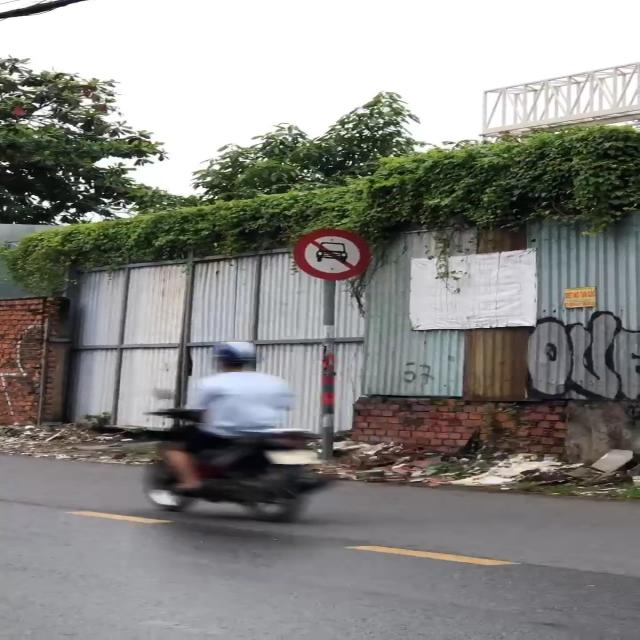Bien bao cam xe oto: (290, 228, 381, 281)
